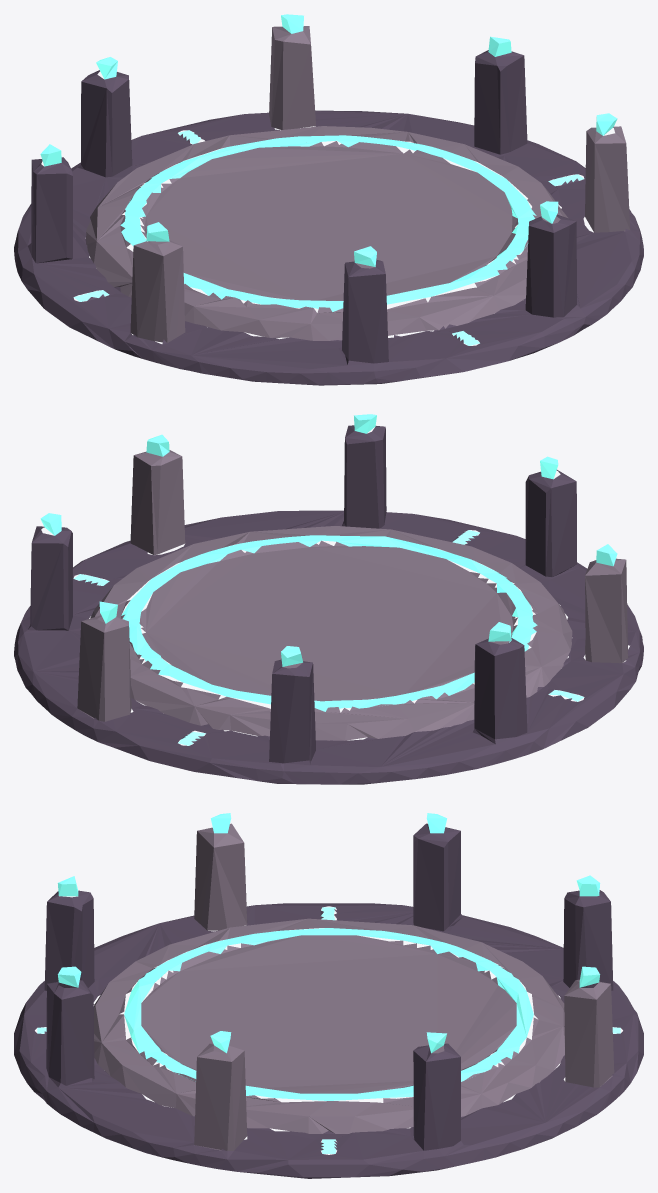
File: soul_shrine.glb
3 renders of one model, top to bottom at view 1: azimuth 30°, elevation 25°; view 2: azimuth 150°, elevation 25°; view 3: azimuth 270°, elevation 25°, orthographic.
Visible parts, largest first — view 1: soul_shrine; view 2: soul_shrine; view 3: soul_shrine.
Part boxes in pixels (bbox=[...]): soul_shrine: bbox=[14, 14, 643, 385]; soul_shrine: bbox=[14, 414, 643, 784]; soul_shrine: bbox=[14, 813, 643, 1178].
Size of the model in its own units: 4.16 by 0.889 by 4.16.
